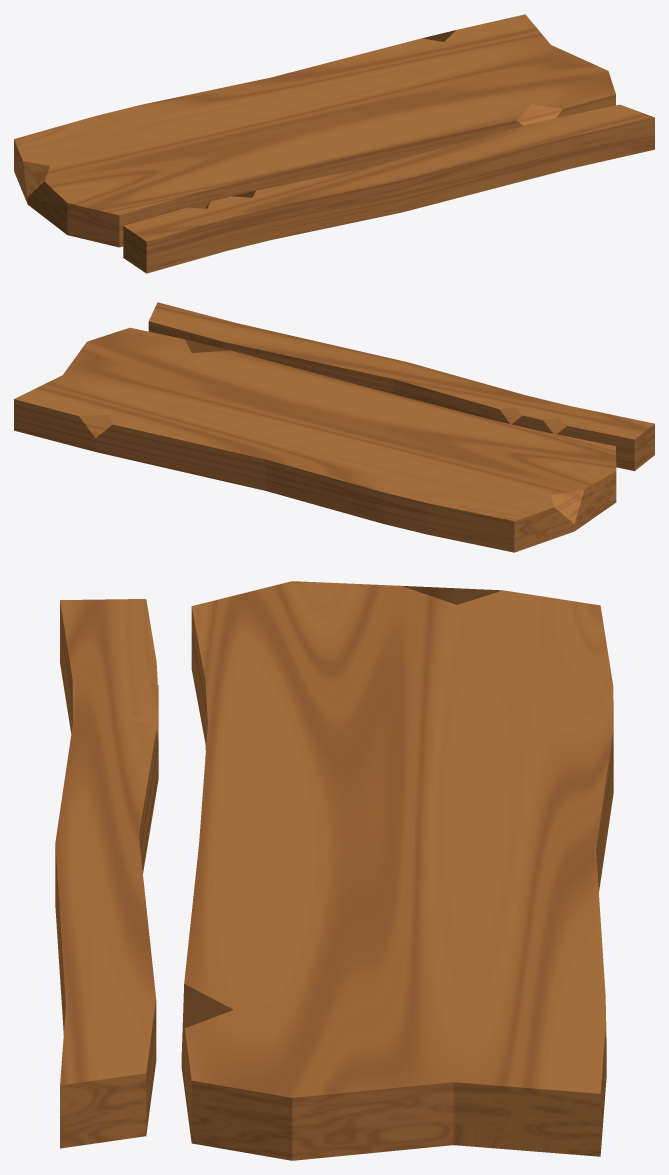
Rendered from model_tabuagrandona2_01.fbx.
The picture shows the model from 3 angles, top to bottom: view 1: azimuth 30°, elevation 25°; view 2: azimuth 150°, elevation 25°; view 3: azimuth 270°, elevation 25°; orthographic projection. The views are drawn at different scales.
Visible parts, largest first — view 1: tabua grandona 2; view 2: tabua grandona 2; view 3: tabua grandona 2.
Boxes of the visible parts, x1,y1,x2,y2 form: tabua grandona 2: (14, 14, 654, 273); tabua grandona 2: (14, 302, 654, 552); tabua grandona 2: (55, 581, 613, 1160).
Size of the model in its own units: 8.91 by 0.506 by 4.07.
Materials: 1 (1 with a texture image).
